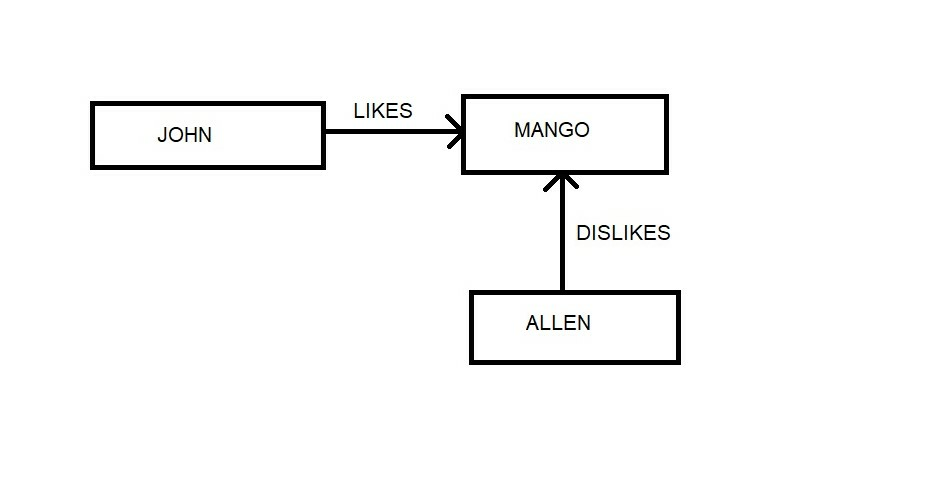arrow: (319, 110, 465, 151), (536, 169, 583, 289)
process: (457, 90, 672, 179), (86, 98, 330, 175), (464, 287, 686, 370)
text: (572, 219, 671, 244), (509, 118, 592, 142), (155, 120, 215, 147), (522, 311, 592, 334), (350, 99, 416, 122)
